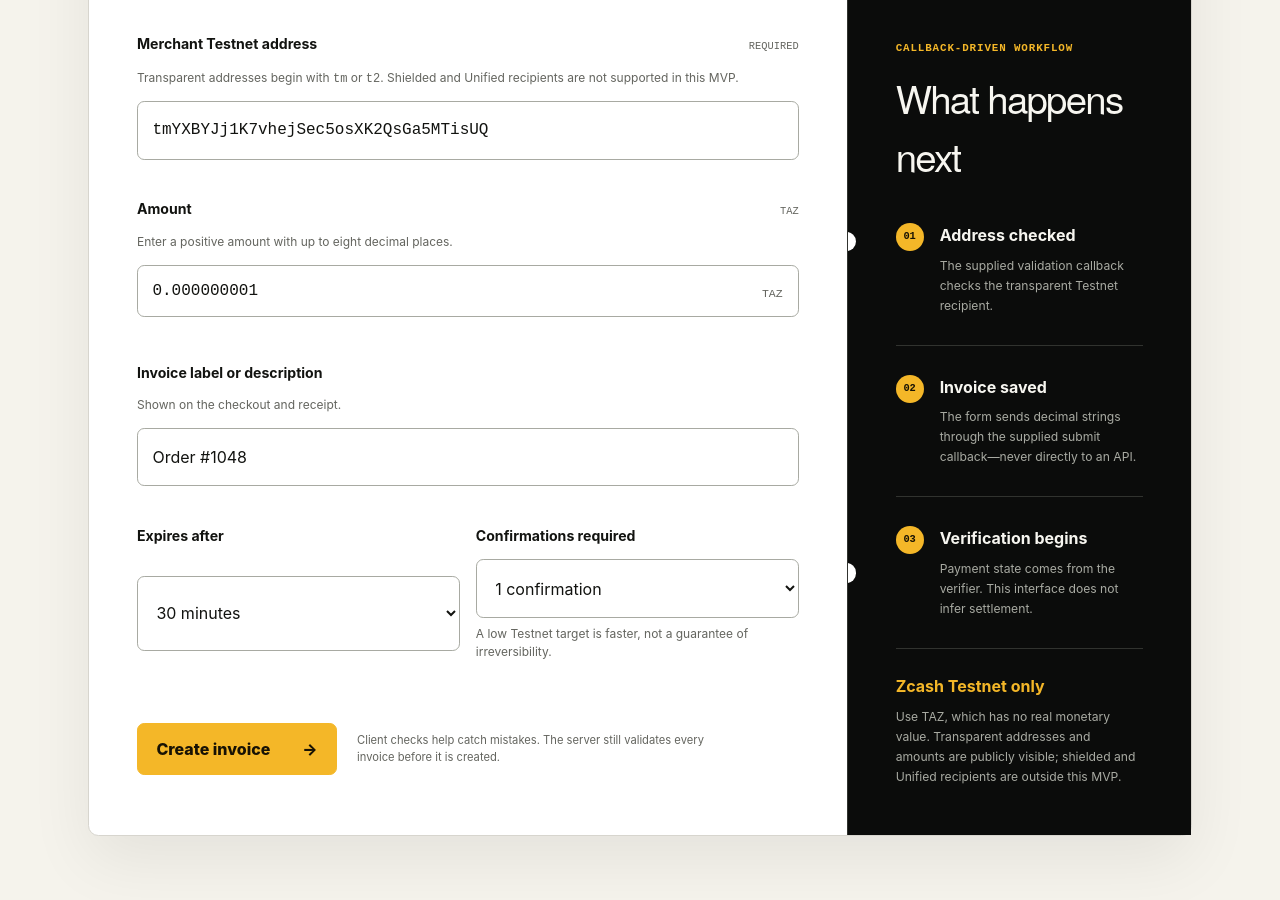
Test: MerchantInvoiceForm › blocks invalid TAZ amounts without converting them to floating point
This screenshot has width=1280, height=900.
(page scrolled)
Click the button "Create invoice →".
click(237, 749)  # box [137, 723, 337, 775]
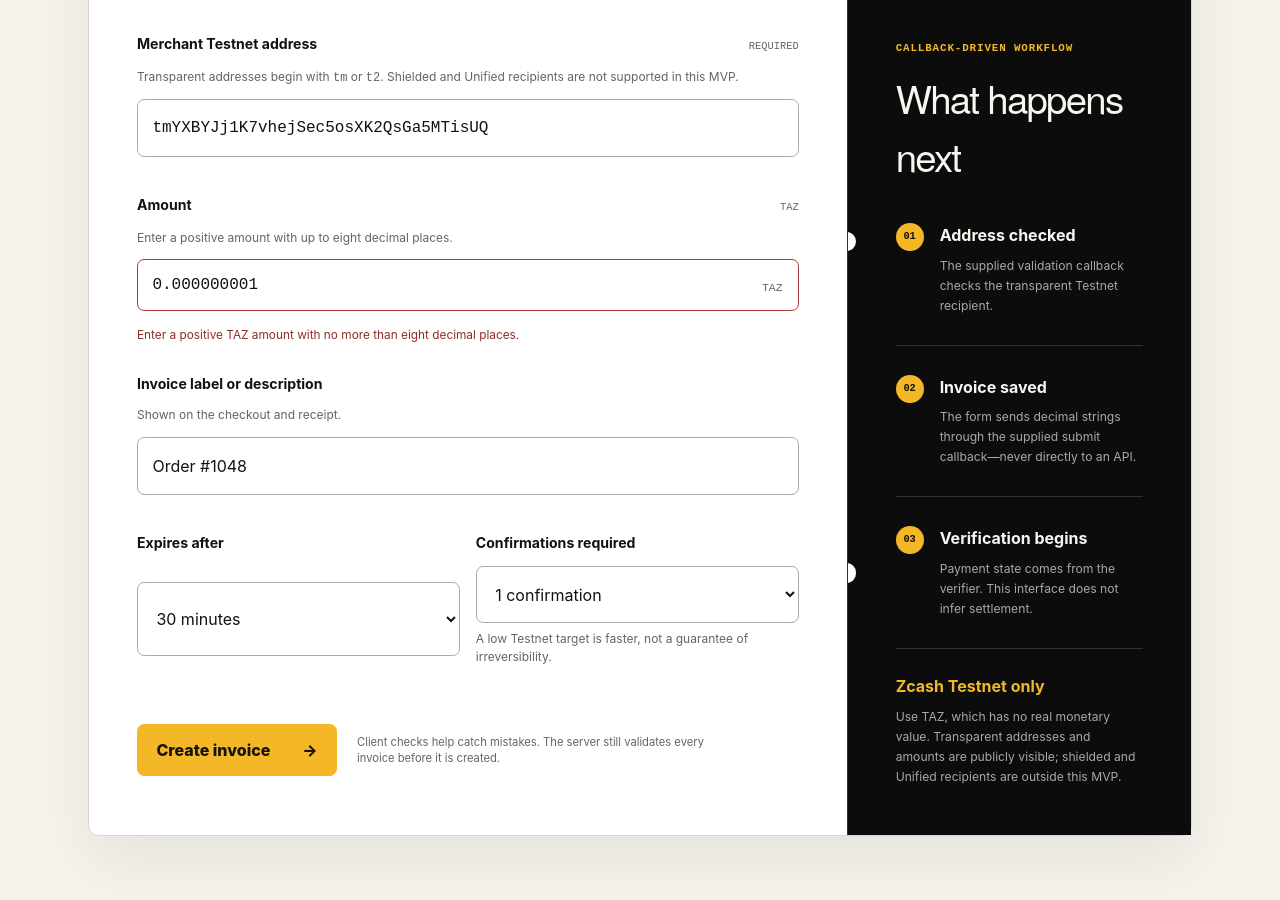
Now the text "Enter a positive TAZ amount with no more than eight decimal places." is shown, box [137, 328, 519, 342]
